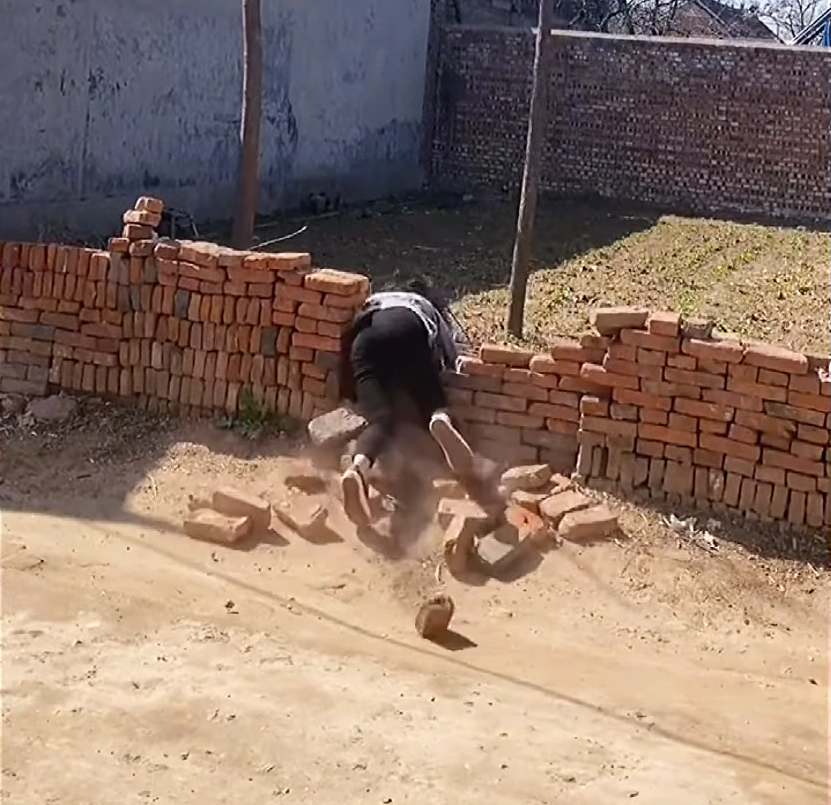fall: (287, 238, 568, 553)
